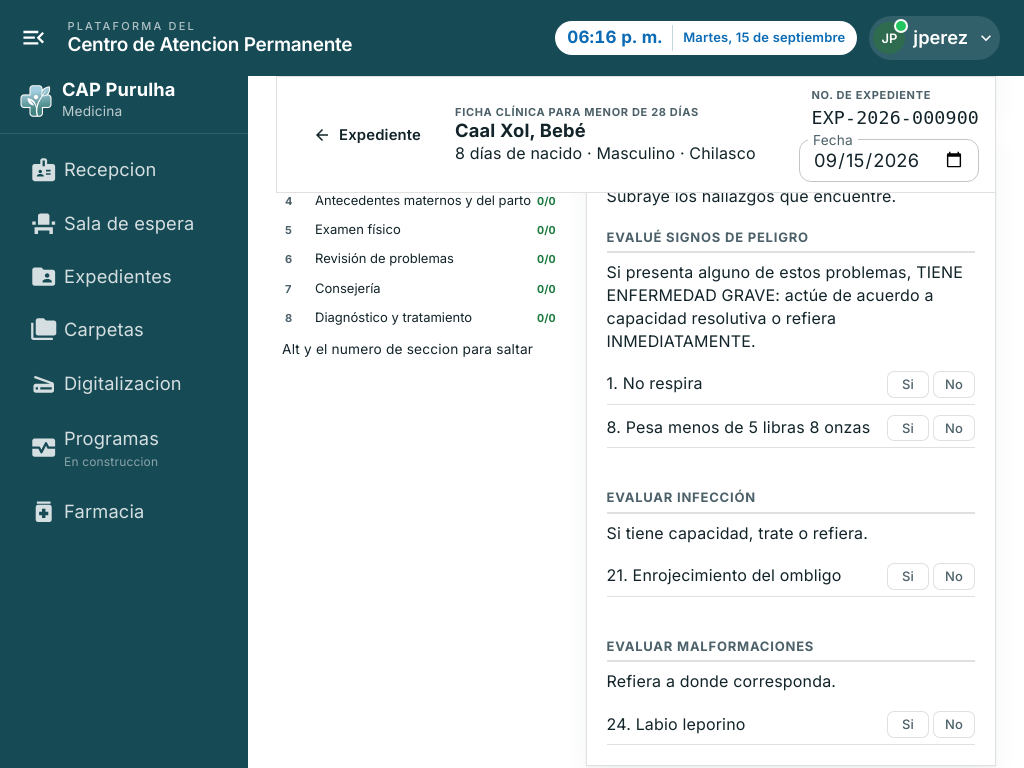
la ficha en pantalla › avisa de enfermedad grave en cuanto se marca un signo de los veinte
This screenshot has width=1024, height=768.
(page scrolled)
Step 1. Click the radio button labelled "Si" in the row of "1. No respira" → (908, 384), box [887,371,929,398]
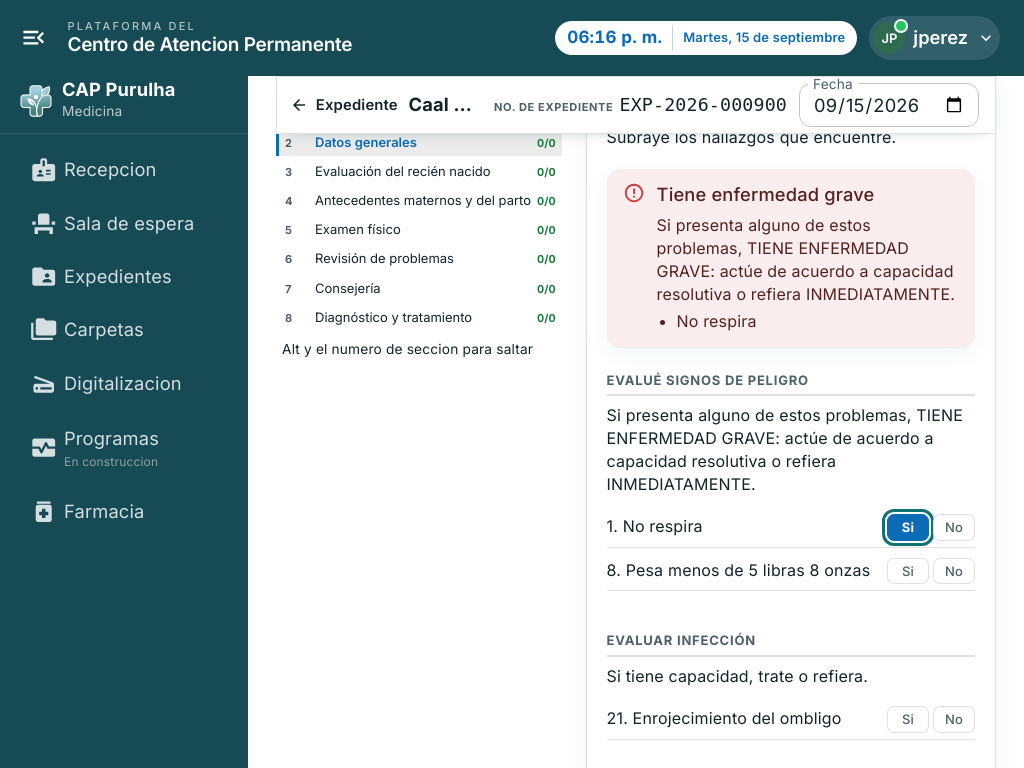
Check: the text "refiera INMEDIATAMENTE" is shown, box [656,216,955,304]
Check: the list item "No respira" is shown, box [676,311,757,331]
